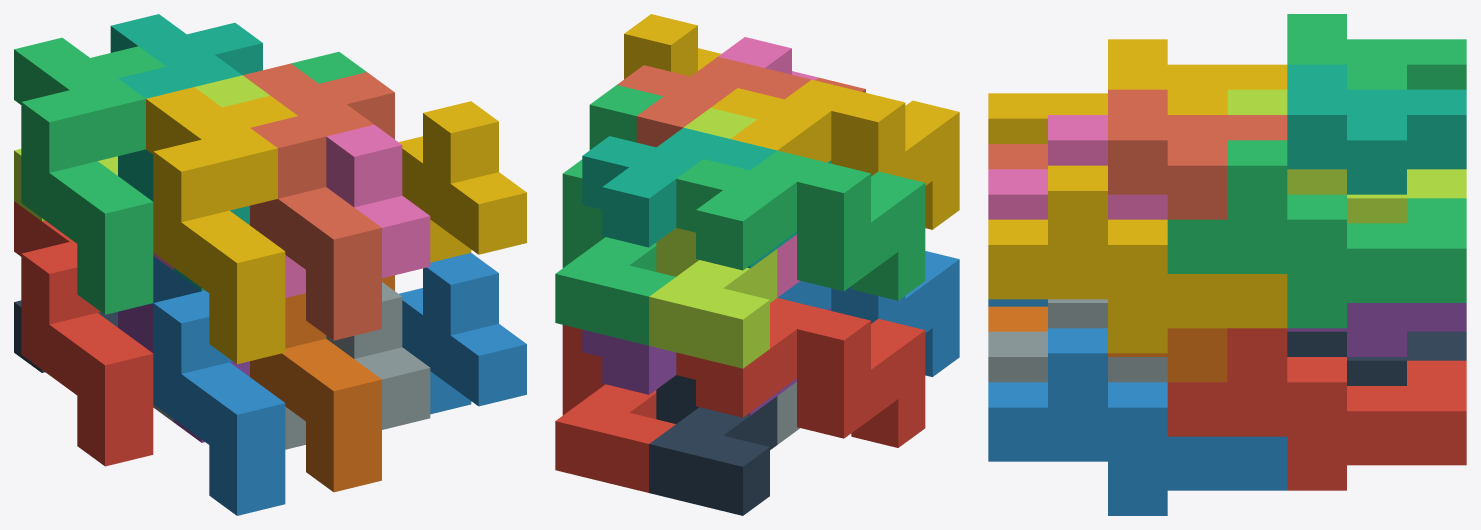
The model's file is tiling.obj.
3 renders of one model, left to right at view 1: azimuth 30°, elevation 25°; view 2: azimuth 150°, elevation 25°; view 3: azimuth 270°, elevation 25°, orthographic. The views are drawn at different scales.
Visible parts, largest first — view 1: copy_1_domain_3, copy_1_domain_4, copy_1_domain_8, copy_1_domain_1, copy_1_domain_2, copy_2_domain_8, copy_2_domain_6, copy_1_domain_6, copy_2_domain_4, copy_1_domain_7, copy_2_domain_2, copy_2_domain_3 (+3 smaller); view 2: copy_1_domain_3, copy_1_domain_1, copy_1_domain_4, copy_2_domain_7, copy_2_domain_3, copy_2_domain_1, copy_1_domain_7, copy_2_domain_5, copy_1_domain_2, copy_1_domain_8, copy_2_domain_8, copy_1_domain_5 (+2 smaller); view 3: copy_2_domain_7, copy_2_domain_5, copy_2_domain_8, copy_2_domain_6, copy_1_domain_7, copy_1_domain_8, copy_1_domain_4, copy_1_domain_3, copy_2_domain_4, copy_2_domain_3, copy_2_domain_2, copy_1_domain_5 (+2 smaller).
Part boxes in pixels (x1,y1,x2,y2): copy_1_domain_3: (14, 37, 165, 314); copy_1_domain_4: (146, 87, 297, 364); copy_1_domain_8: (243, 63, 394, 340); copy_1_domain_1: (14, 201, 153, 466); copy_1_domain_2: (150, 256, 285, 515); copy_2_domain_8: (399, 101, 526, 262); copy_2_domain_6: (399, 253, 526, 414); copy_1_domain_6: (250, 275, 394, 492); copy_2_domain_4: (153, 124, 430, 297); copy_1_domain_7: (110, 14, 262, 290); copy_2_domain_2: (153, 282, 430, 449); copy_2_domain_3: (14, 75, 269, 221); copy_1_domain_3: (676, 150, 925, 300); copy_1_domain_1: (676, 298, 925, 447); copy_1_domain_4: (711, 79, 959, 229); copy_2_domain_7: (555, 85, 675, 345); copy_2_domain_3: (649, 108, 777, 368); copy_2_domain_1: (649, 375, 777, 515); copy_1_domain_7: (582, 127, 831, 268); copy_2_domain_5: (555, 325, 675, 492); copy_1_domain_2: (777, 251, 959, 376); copy_1_domain_8: (617, 57, 865, 147); copy_2_domain_8: (624, 14, 721, 79); copy_1_domain_5: (582, 307, 831, 415); copy_2_domain_7: (1167, 140, 1466, 328); copy_2_domain_5: (1167, 328, 1466, 490); copy_2_domain_8: (988, 165, 1287, 353); copy_2_domain_6: (988, 328, 1287, 515); copy_1_domain_7: (1287, 64, 1466, 194); copy_1_domain_8: (988, 89, 1287, 219); copy_1_domain_4: (988, 39, 1287, 143); copy_1_domain_3: (1287, 14, 1466, 89); copy_2_domain_4: (988, 115, 1167, 219); copy_2_domain_3: (1227, 89, 1466, 223); copy_2_domain_2: (988, 299, 1167, 382); copy_1_domain_5: (1287, 303, 1466, 356).
Size of the model in its own units: 7 by 6 by 8.
